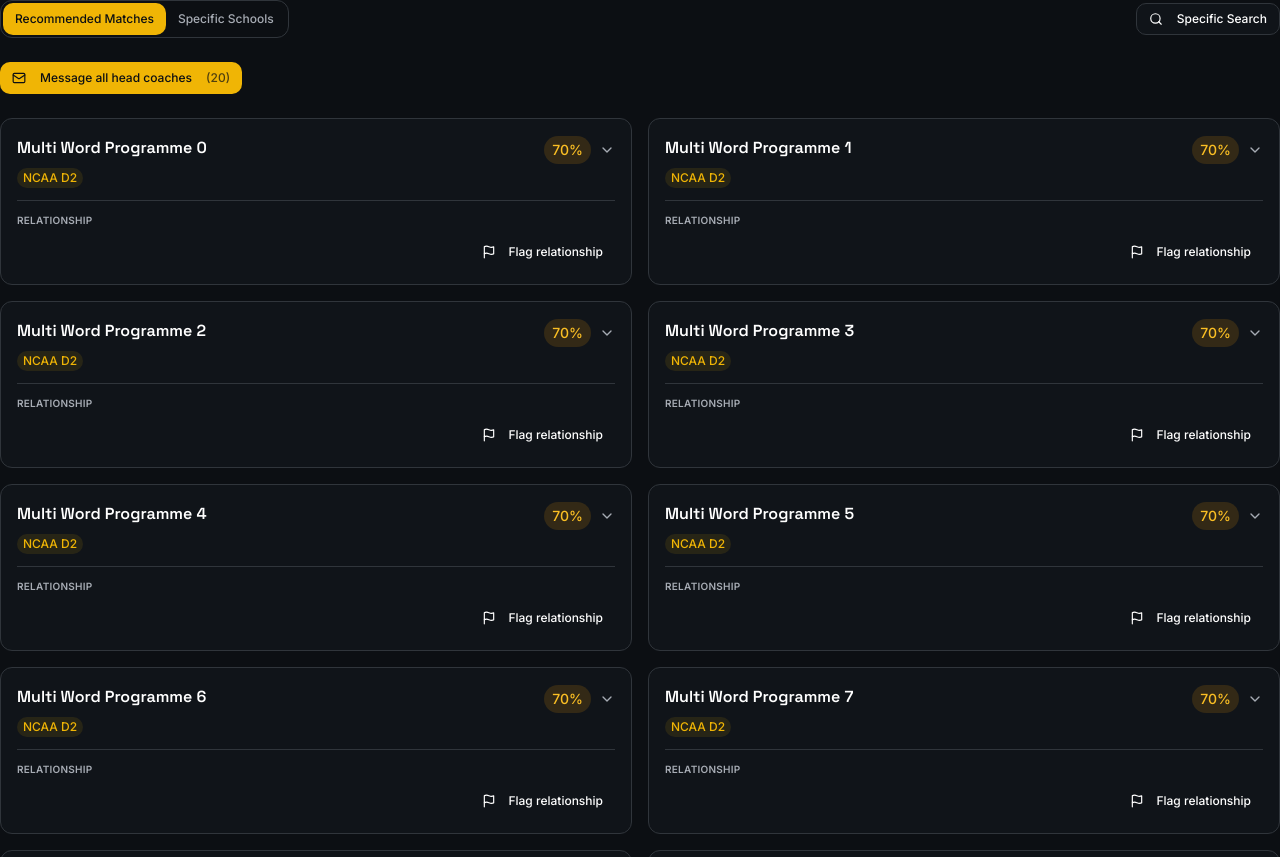
Test: what reaches a card › renders the signals the server sent for that exact name
Click the button "Multi Word Programme 0 NCAA D2 70%" at x=112, y=148, box [17,136,615,188]
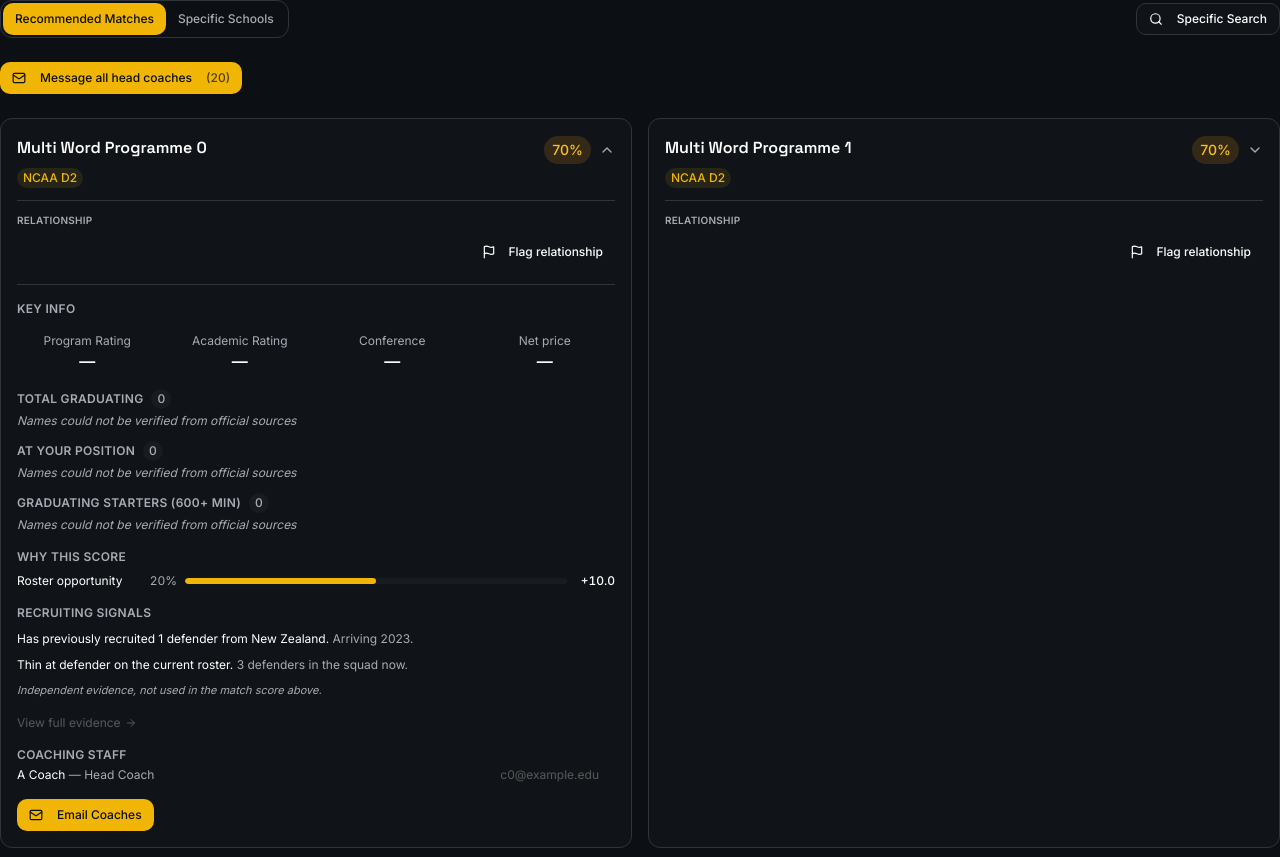
Expected: the text "Jamie Franks" is not shown
Result: the text "Has previously recruited 1 defender from New Zealand." is shown at [17,631,329,646]
Click the button "Multi Word Programme 0 NCAA D2 70%" at x=112, y=148, box [17,136,615,188]
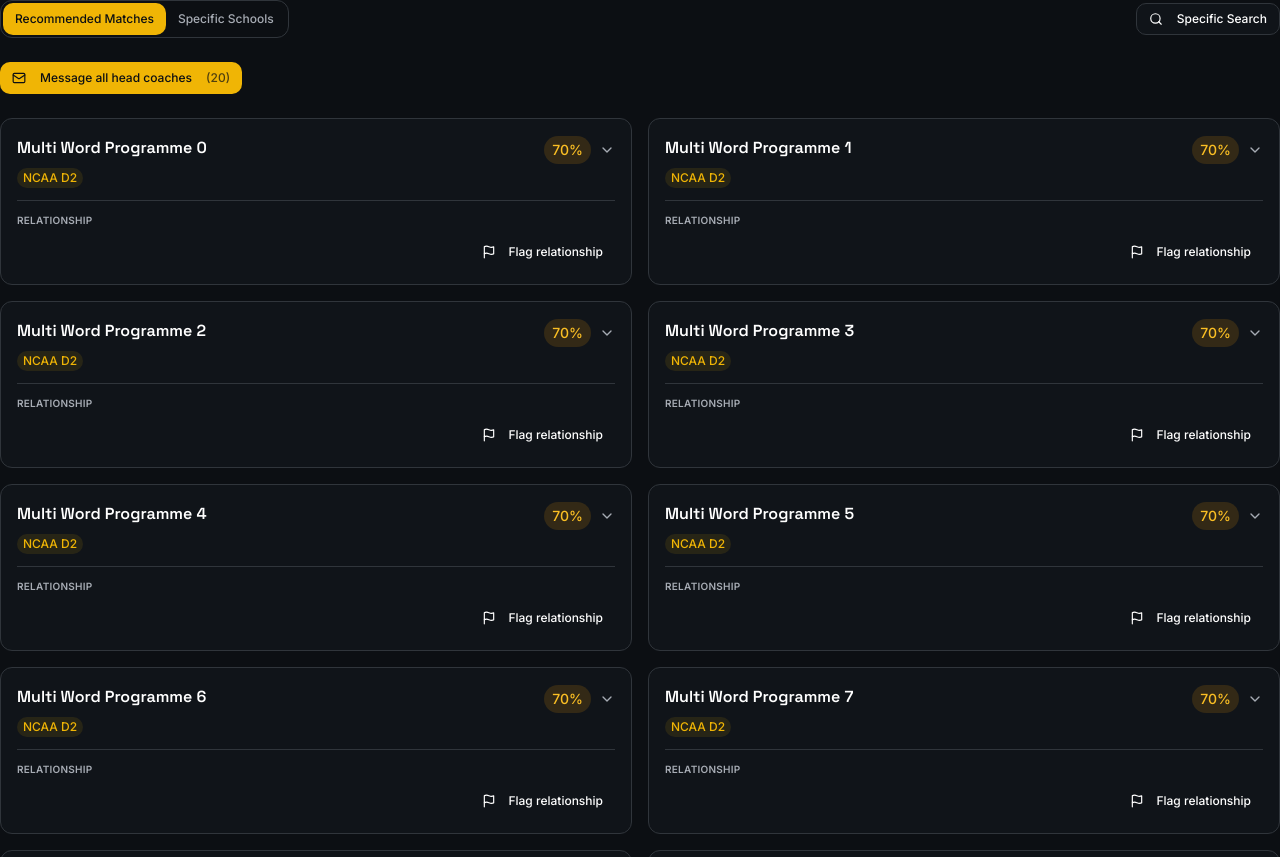
Click the button "Multi Word Programme 1 NCAA D2 70%" at x=758, y=148, box [665,136,1263,188]
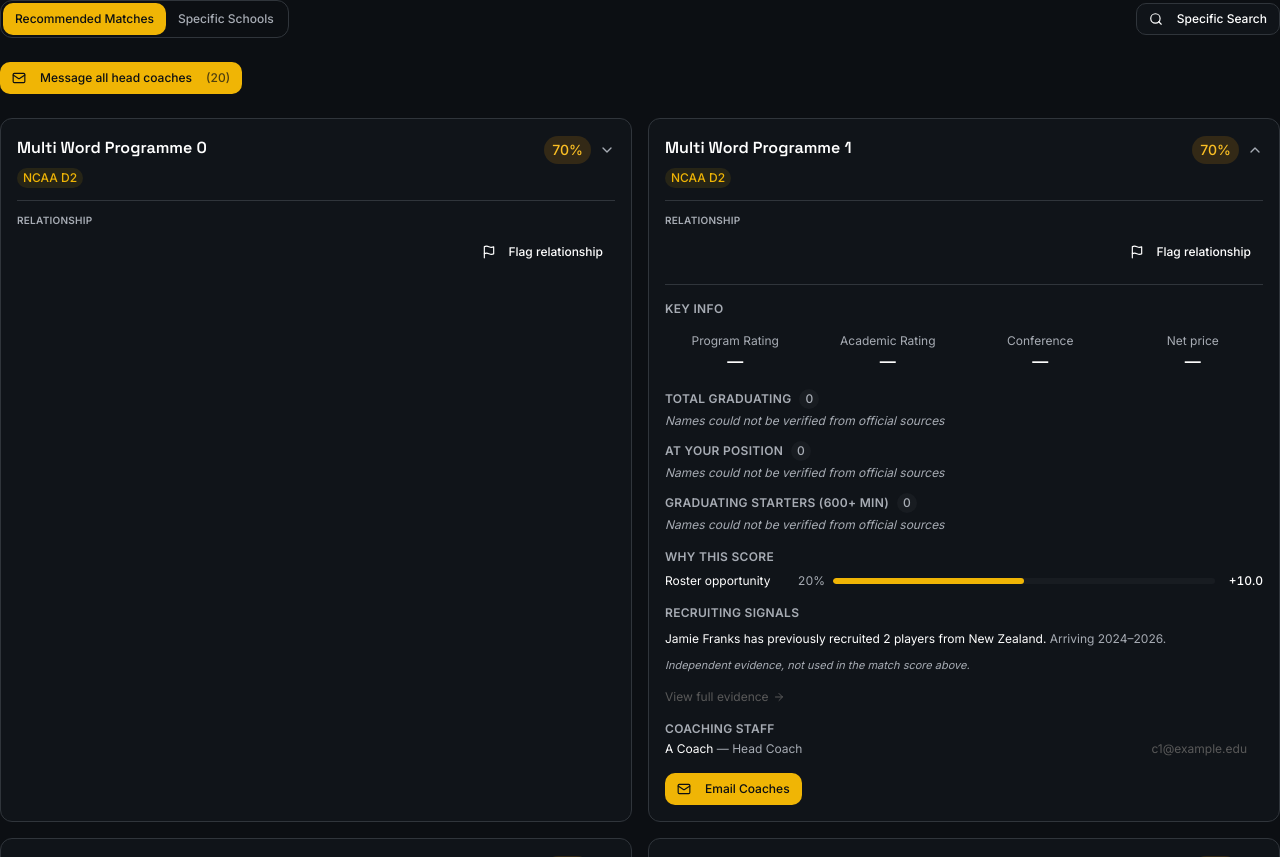
Expected: the text "Thin at defender" is not shown
Result: the text "Jamie Franks has previously recruited 2 players" is shown at [665,631,1046,646]
